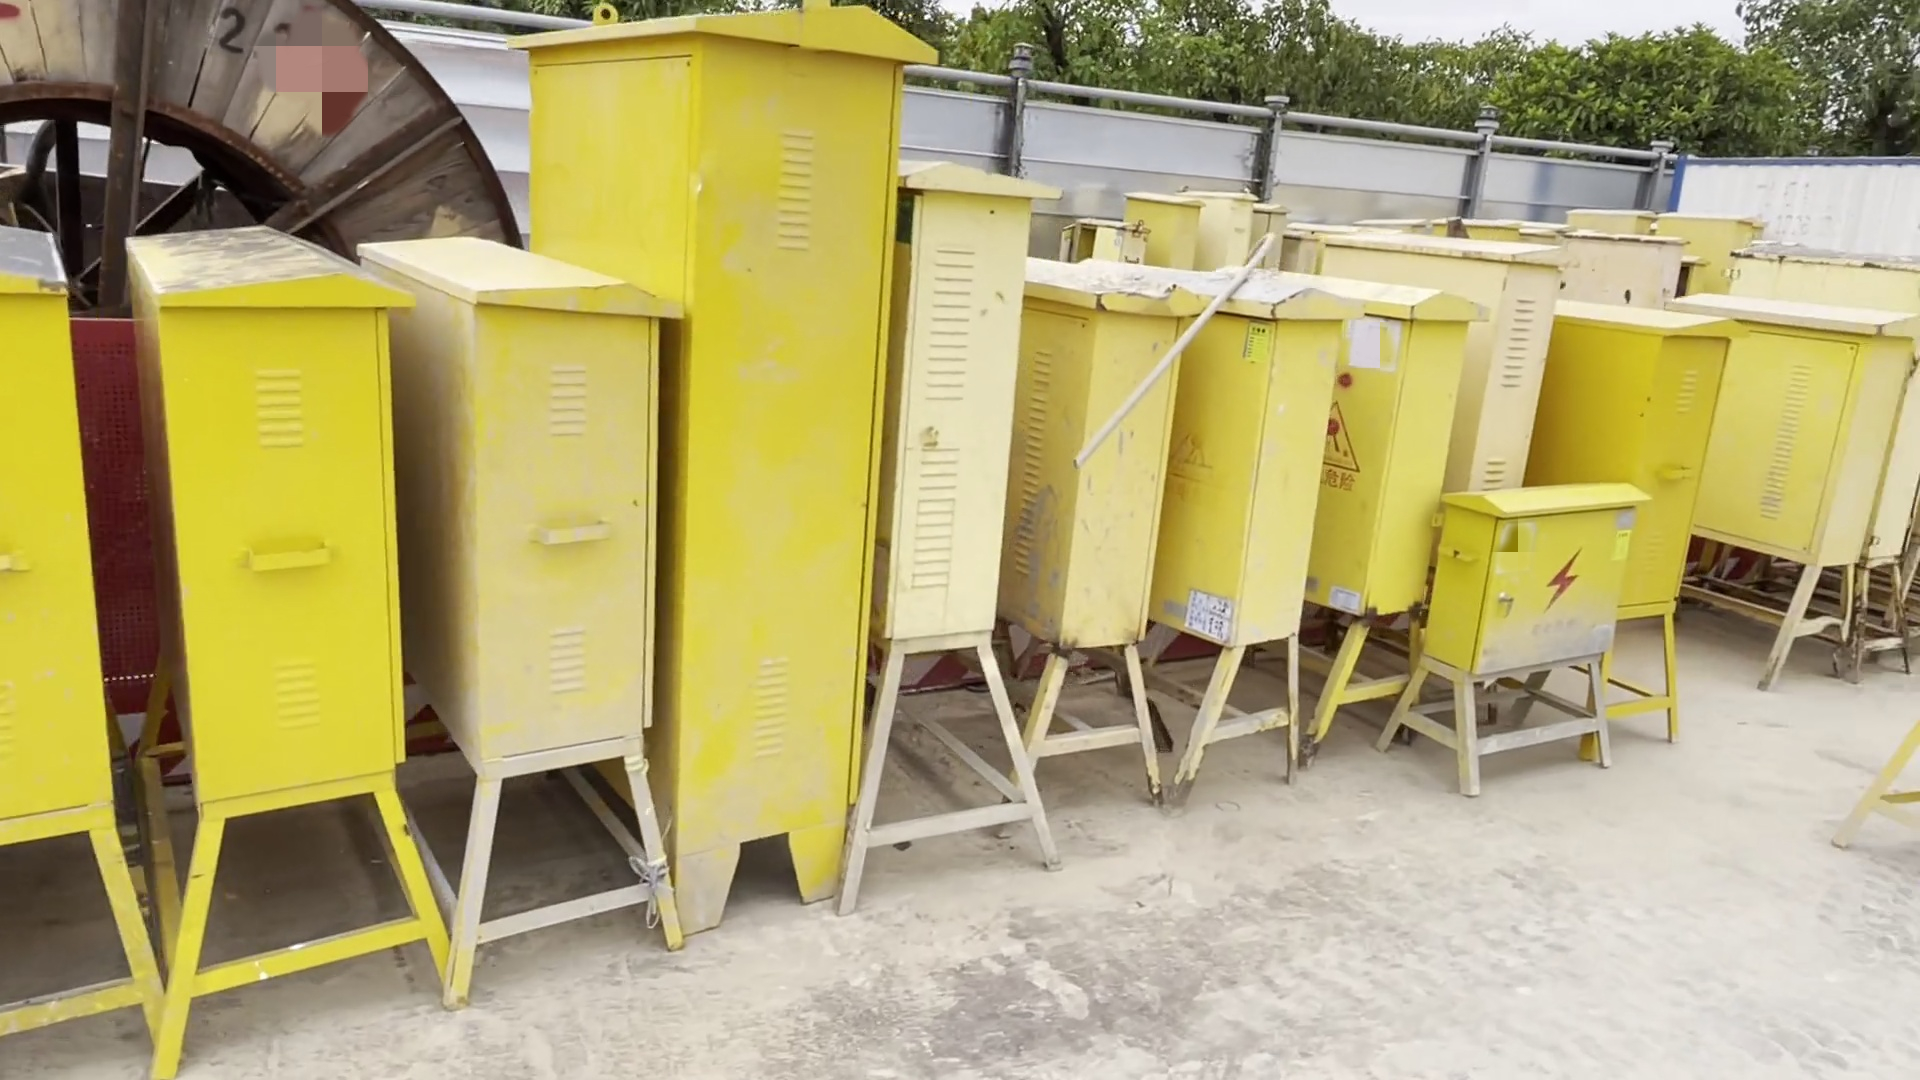ebox: (516, 18, 839, 905), (160, 194, 455, 1071), (371, 218, 679, 967), (852, 152, 1062, 881), (1, 214, 174, 1064), (1156, 264, 1353, 804), (994, 248, 1160, 808), (1685, 301, 1909, 692), (1396, 479, 1642, 786), (1534, 294, 1685, 760), (1294, 268, 1435, 756), (1335, 227, 1531, 495), (1109, 185, 1201, 273), (1189, 189, 1255, 268), (1255, 194, 1296, 272)
